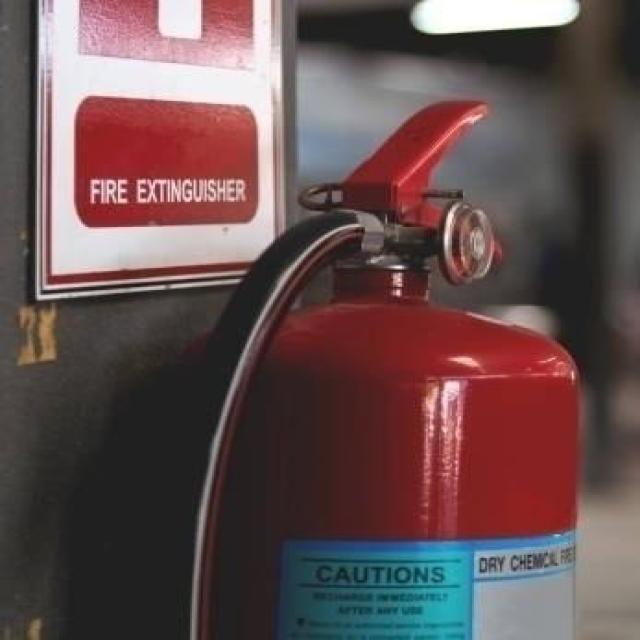fire_extinguisher: (127, 91, 588, 638)
